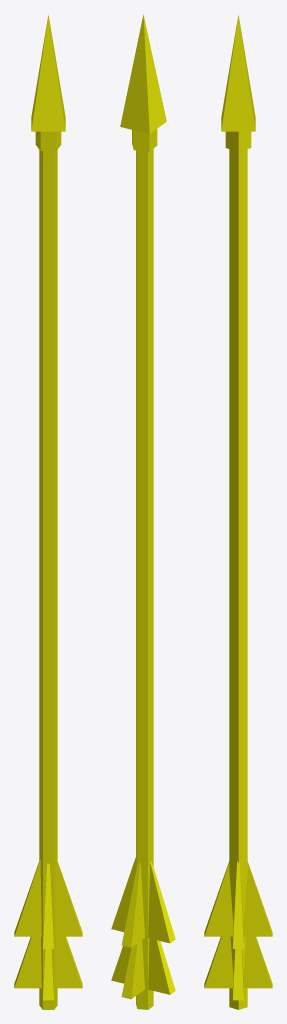
The model's file is _arrow_c_7.glb.
3 renders of one model, left to right at view 1: azimuth 90°, elevation 25°; view 2: azimuth 150°, elevation 25°; view 3: azimuth 270°, elevation 25°, orthographic.
Parts seen in each view (by area): view 1: arrow_c_7; view 2: arrow_c_7; view 3: arrow_c_7.
Boxes of the visible parts, x1,y1,x2,y2 form: arrow_c_7: (14,14,82,1009); arrow_c_7: (111,14,175,1009); arrow_c_7: (204,14,272,1009).
Size of the model in its own units: 1243 by 19971 by 1243.
